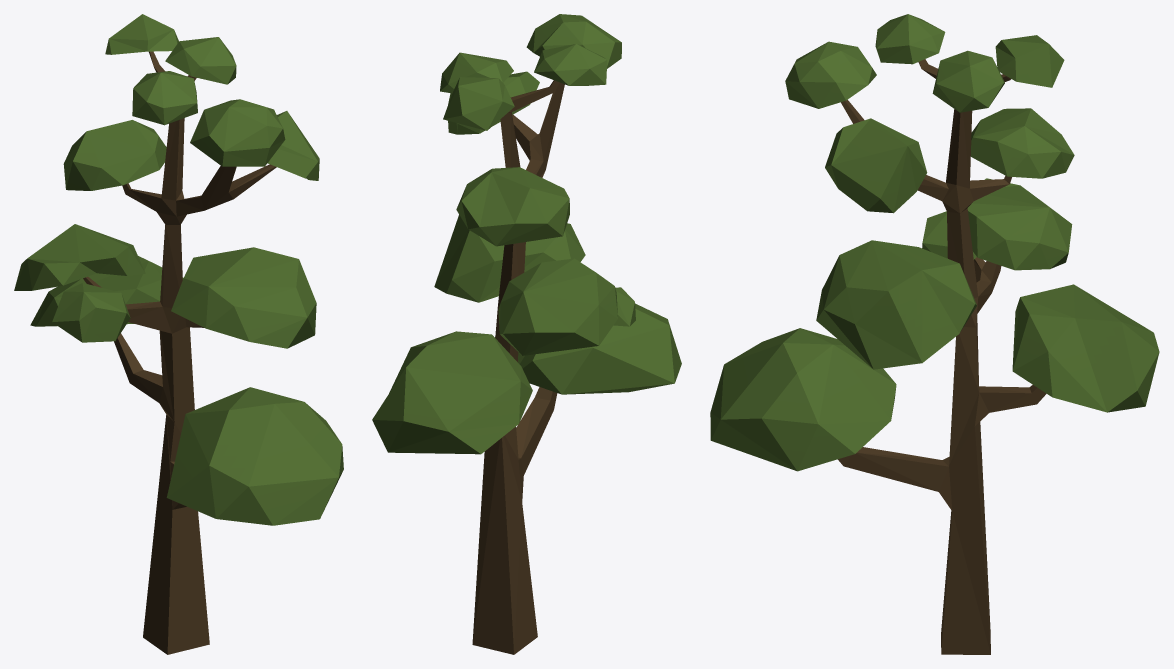
File: Tree29_Graft.glb
3 views of the same model, side by side, from view 1: azimuth 30°, elevation 25°; view 2: azimuth 150°, elevation 25°; view 3: azimuth 270°, elevation 25° (orthographic). The views are drawn at different scales.
Visible parts, largest first — view 1: Tree29_Graft_LOD0; view 2: Tree29_Graft_LOD0; view 3: Tree29_Graft_LOD0.
Part boxes in pixels (<box>): Tree29_Graft_LOD0: <box>14,14,343,654</box>; Tree29_Graft_LOD0: <box>372,14,681,654</box>; Tree29_Graft_LOD0: <box>710,14,1159,654</box>.
Size of what is drawn, in the model's own units: 2.58 by 6.41 by 4.29.
